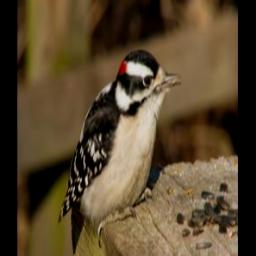Woodpecker: (57, 50, 184, 248)
